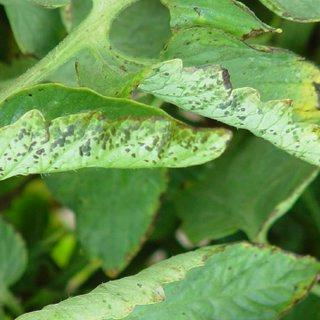Tomato leaf bacterial spot: (135, 27, 317, 177), (1, 85, 241, 173)
